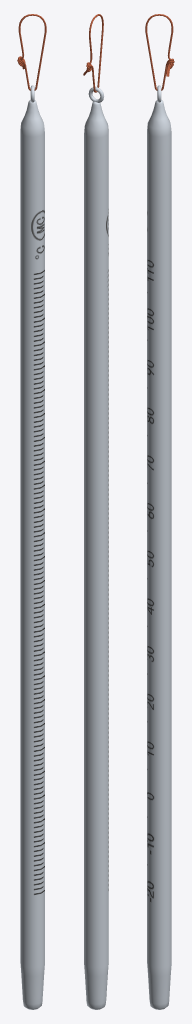
Rendered from hx_jll_wdjhy.FBX.
3 views of the same model, side by side, from view 1: azimuth 90°, elevation 25°; view 2: azimuth 150°, elevation 25°; view 3: azimuth 270°, elevation 25° (orthographic).
Visible parts, largest first — view 1: hx_jll_wdjhy, hx_jll_wdj_sz; view 2: hx_jll_wdjhy, hx_jll_wdj_sz; view 3: hx_jll_wdjhy, hx_jll_wdj_sz.
Part boxes in pixels (bbox=[...]): hx_jll_wdjhy: bbox=[20, 85, 44, 1009]; hx_jll_wdj_sz: bbox=[17, 14, 46, 90]; hx_jll_wdjhy: bbox=[84, 87, 108, 1009]; hx_jll_wdj_sz: bbox=[83, 14, 103, 92]; hx_jll_wdjhy: bbox=[147, 85, 171, 1009]; hx_jll_wdj_sz: bbox=[145, 14, 174, 90].
Size of the model in its own units: 0.6714 by 29.32 by 0.785.
